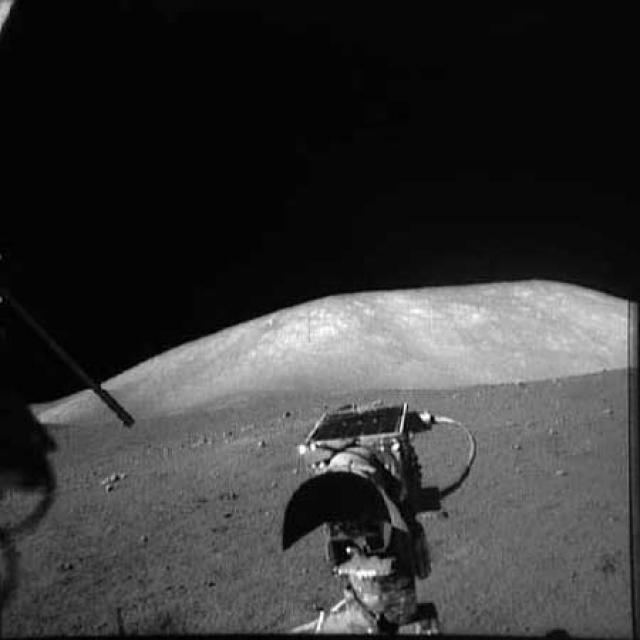artifact: (274, 394, 483, 639), (0, 273, 139, 438)
rock: (97, 466, 134, 499)
